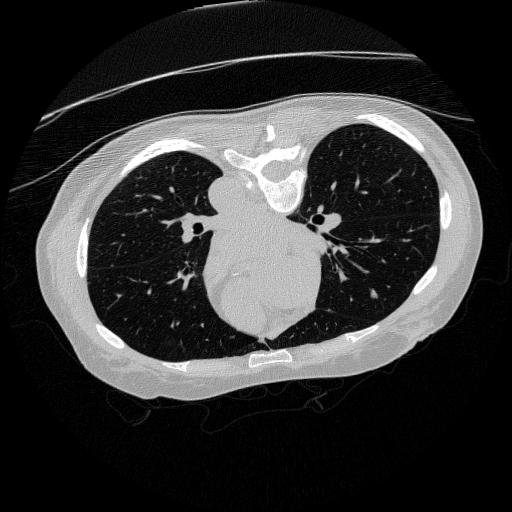nodule: (368, 289, 381, 302)
